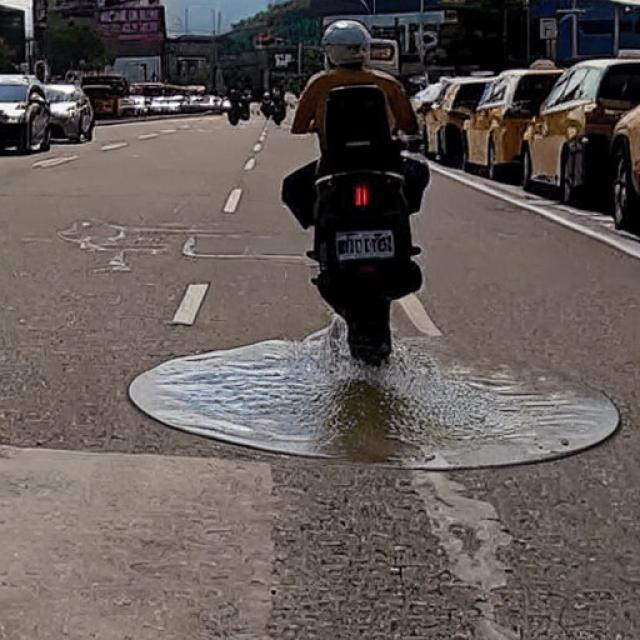puddle: (129, 336, 620, 470)
